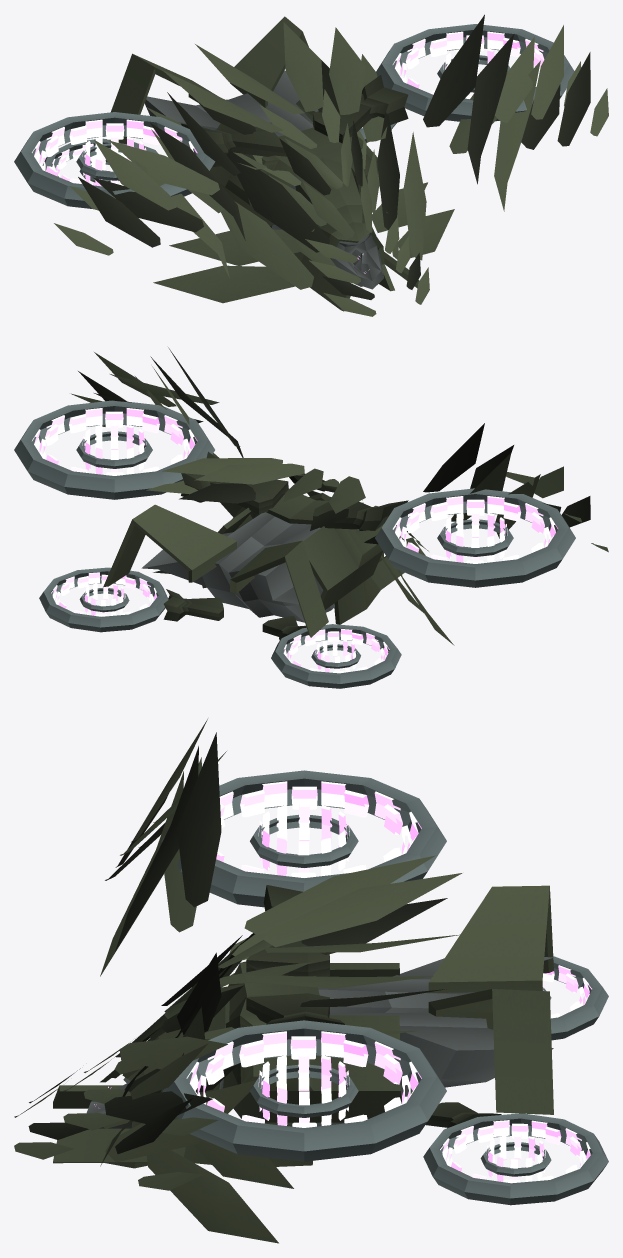
Rendered from EnemyTank.fbx.
The picture shows the model from 3 angles, top to bottom: view 1: azimuth 30°, elevation 25°; view 2: azimuth 150°, elevation 25°; view 3: azimuth 270°, elevation 25°; orthographic projection. The views are drawn at different scales.
Parts seen in each view (by area): view 1: Cube.012, Circle.011, Cube.011, Cube.010, Circle.012, Circle.010; view 2: Circle.011, Cube.012, Cube.011, Circle.012, Cube.010, Circle.010; view 3: Cube.012, Circle.011, Cube.011, Circle.012, Cube.010, Circle.010.
Part boxes in pixels (x1=…): Cube.012: x1=54, y1=14, x2=608, y2=316; Circle.011: x1=14, y1=24, x2=574, y2=209; Cube.011: x1=111, y1=16, x2=383, y2=289; Cube.010: x1=209, y1=100, x2=419, y2=311; Circle.012: x1=32, y1=31, x2=544, y2=186; Circle.010: x1=181, y1=75, x2=408, y2=167; Circle.011: x1=14, y1=400, x2=575, y2=688; Cube.012: x1=71, y1=347, x2=608, y2=645; Cube.011: x1=103, y1=504, x2=334, y2=637; Circle.012: x1=32, y1=408, x2=557, y2=673; Cube.010: x1=202, y1=488, x2=425, y2=624; Circle.010: x1=163, y1=451, x2=408, y2=640; Cube.012: x1=14, y1=719, x2=462, y2=1243; Circle.011: x1=161, y1=770, x2=608, y2=1205; Cube.011: x1=86, y1=885, x2=553, y2=1128; Circle.012: x1=186, y1=781, x2=591, y2=1183; Cube.010: x1=53, y1=961, x2=401, y2=1168; Circle.010: x1=246, y1=885, x2=501, y2=1128.
Bounding box in the file's own units: 21.97 × 8.43 × 14.4.
